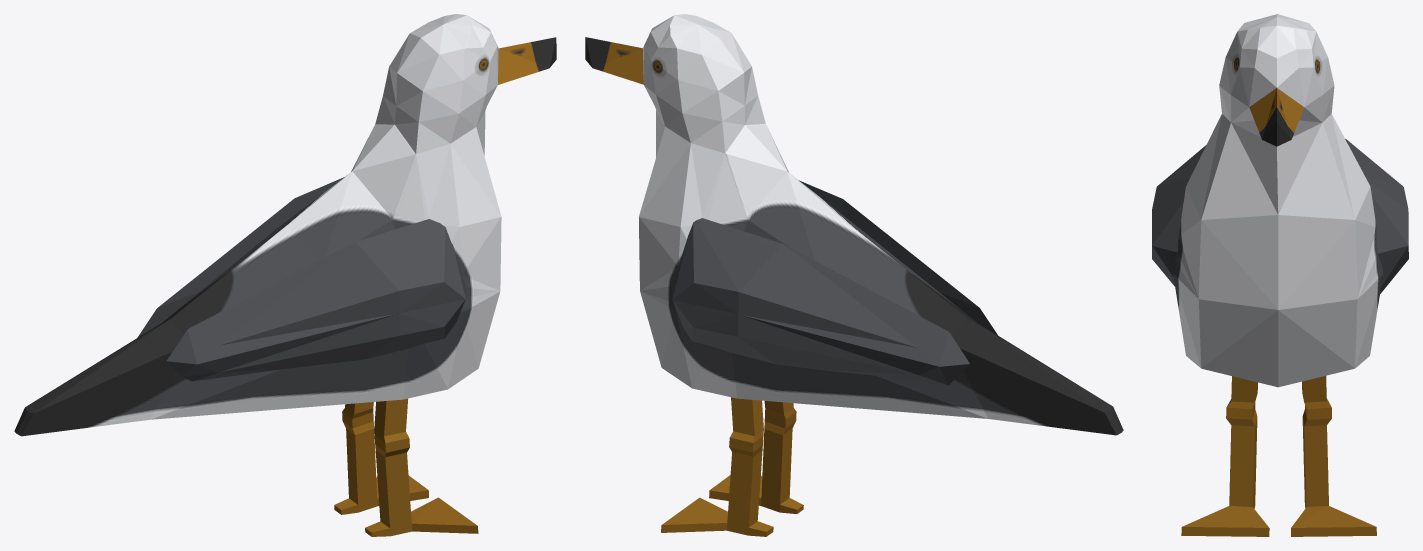
File: seagull.glb
The picture shows the model from 3 angles, left to right: view 1: azimuth 30°, elevation 25°; view 2: azimuth 150°, elevation 25°; view 3: azimuth 270°, elevation 25°; orthographic projection. The views are drawn at different scales.
Visible parts, largest first — view 1: Gull; view 2: Gull; view 3: Gull.
Boxes of the visible parts, x1,y1,x2,y2 form: Gull: [14, 14, 556, 536]; Gull: [585, 14, 1123, 536]; Gull: [1152, 14, 1408, 536].
Bounding box in the file's own units: 65.38 × 55.97 × 24.5.
1 material, 1 textured.
